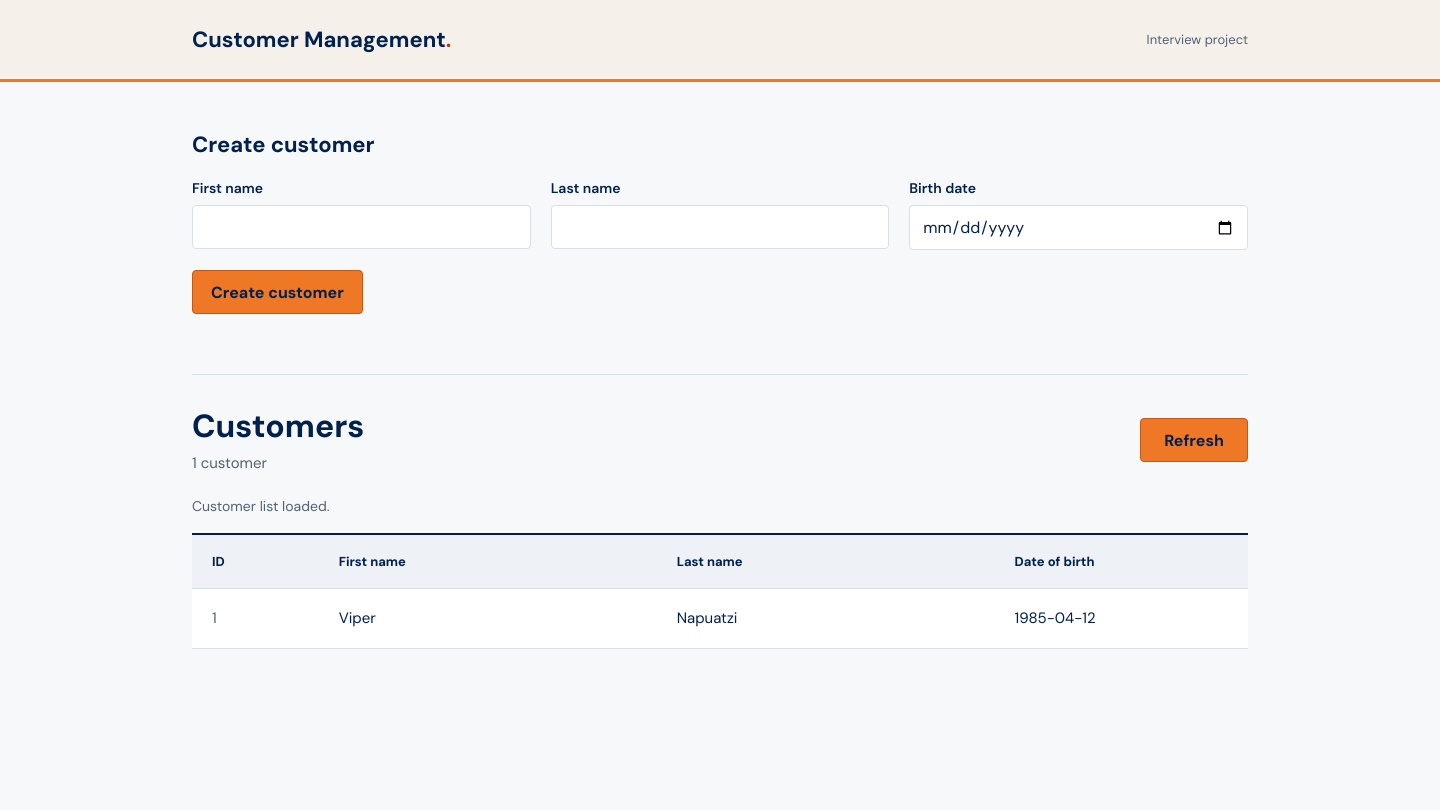
customer validation › shows required errors, blocks POST, and focuses the first invalid field
Check: the text "Viper" is shown, box top-left (319, 589), bottom-right (657, 648)
Click the button "Create customer": (277, 292) top-left (192, 270), bottom-right (363, 314)
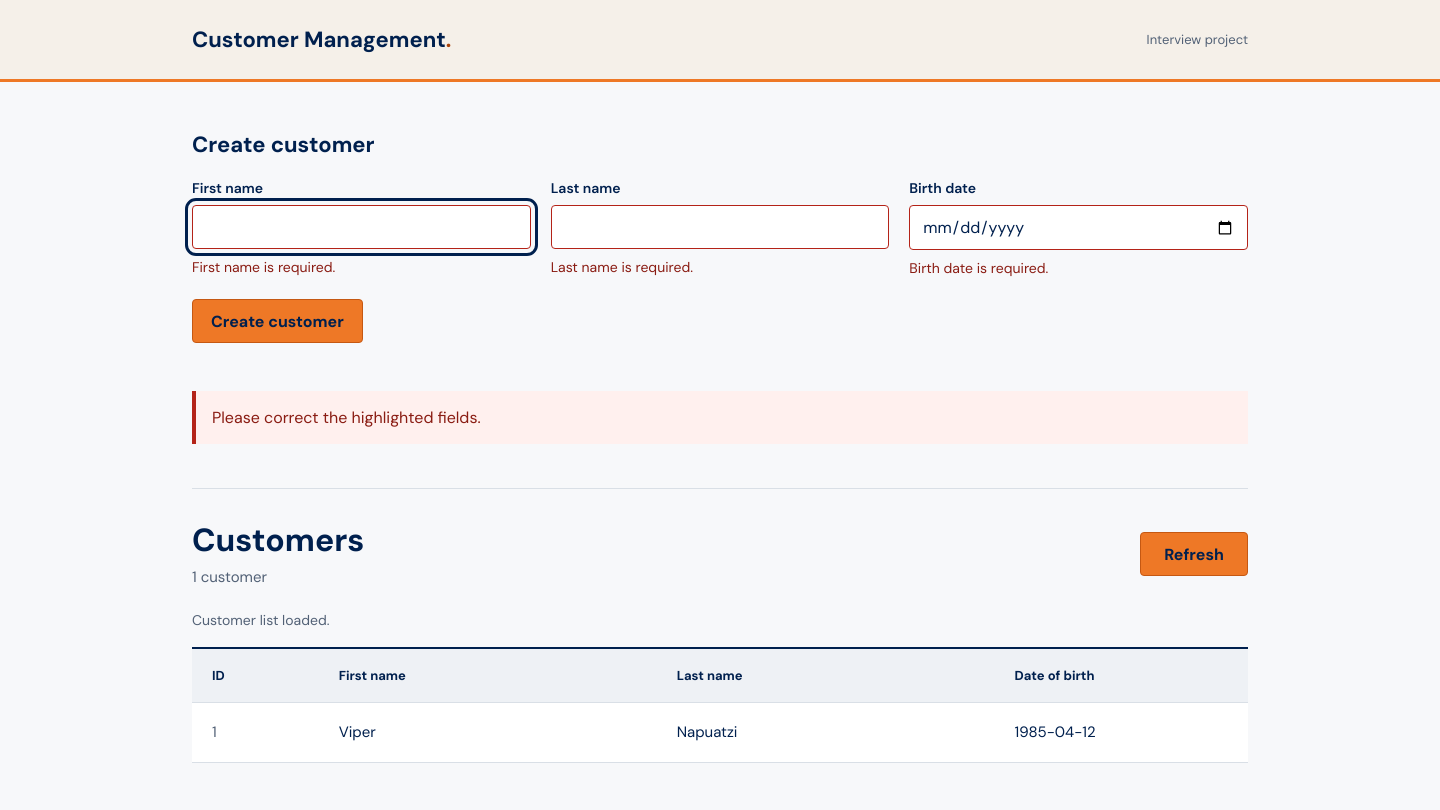
Check: the text "First name is required." is shown, box top-left (192, 258), bottom-right (335, 276)
Check: the text "Last name is required." is shown, box top-left (551, 258), bottom-right (693, 276)
Check: the text "Birth date is required." is shown, box top-left (909, 259), bottom-right (1048, 277)
